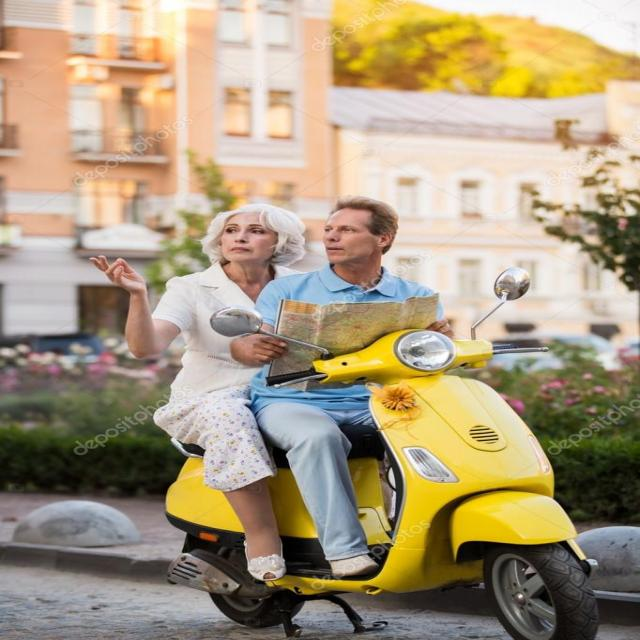Not Wearing Helmet: (267, 210, 488, 272)
